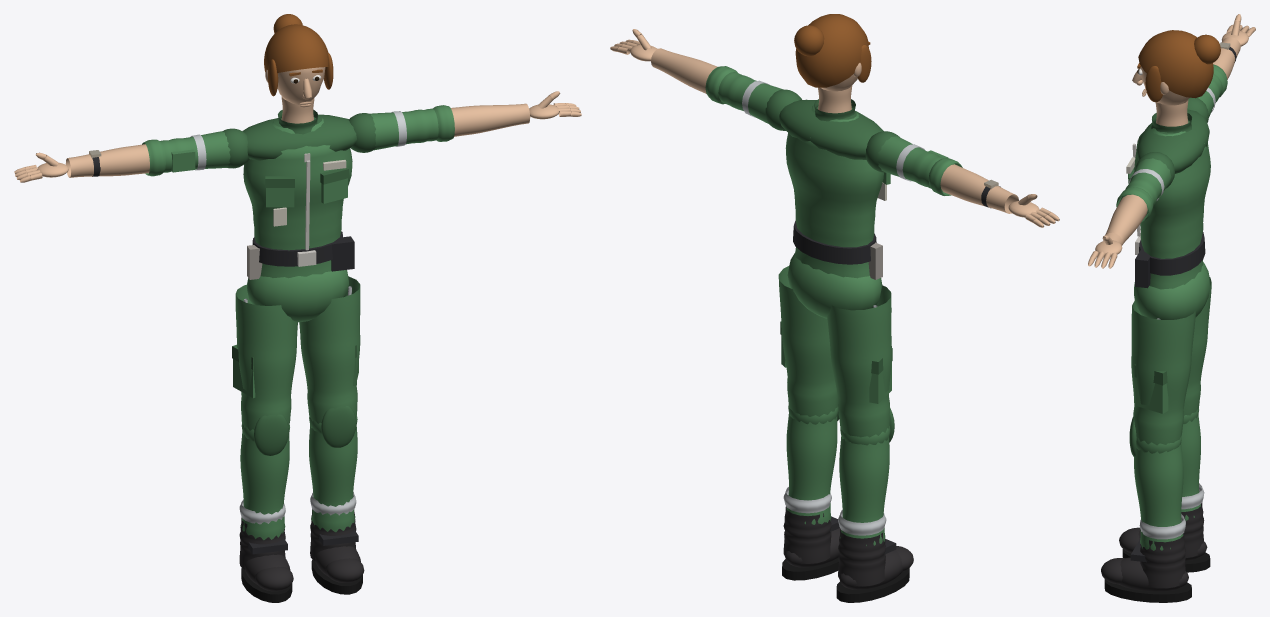
The model's file is C03_colonist_indoor_green.glb.
3 renders of one model, left to right at view 1: azimuth 30°, elevation 25°; view 2: azimuth 150°, elevation 25°; view 3: azimuth 270°, elevation 25°, orthographic. The views are drawn at different scales.
Visible parts, largest first — view 1: thigh, boot_strap, knee_patch, boot_shaft, boot_sole, ankle_stripe, pocket_snap; view 2: thigh, boot_strap, boot_shaft, knee_patch, boot_sole, ankle_stripe; view 3: thigh, boot_strap, boot_shaft, knee_patch, boot_sole, ankle_stripe.
Part boxes in pixels (x1=…): thigh: x1=142, y1=105, x2=454, y2=540; boot_strap: x1=14, y1=14, x2=581, y2=554; knee_patch: x1=222, y1=109, x2=375, y2=455; boot_shaft: x1=239, y1=509, x2=364, y2=591; boot_sole: x1=241, y1=160, x2=362, y2=602; ankle_stripe: x1=190, y1=111, x2=406, y2=524; pocket_snap: x1=297, y1=153, x2=316, y2=266; thigh: x1=705, y1=66, x2=962, y2=545; boot_strap: x1=610, y1=14, x2=1059, y2=554; boot_shaft: x1=783, y1=506, x2=913, y2=589; knee_patch: x1=765, y1=89, x2=900, y2=442; boot_sole: x1=782, y1=182, x2=909, y2=602; ankle_stripe: x1=742, y1=80, x2=924, y2=535; thigh: x1=1116, y1=64, x2=1227, y2=550; boot_strap: x1=1088, y1=14, x2=1255, y2=562; boot_shaft: x1=1101, y1=503, x2=1207, y2=591; knee_patch: x1=1128, y1=97, x2=1209, y2=457; boot_sole: x1=1104, y1=157, x2=1210, y2=602; ankle_stripe: x1=1128, y1=87, x2=1215, y2=539.
Bounding box in the file's own units: 1.71 × 1.8 × 0.5019.
